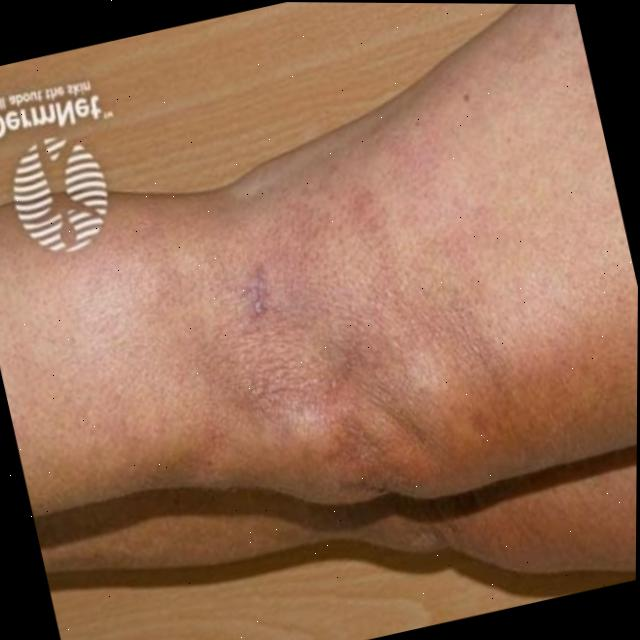Eczema: (150, 136, 475, 420)
